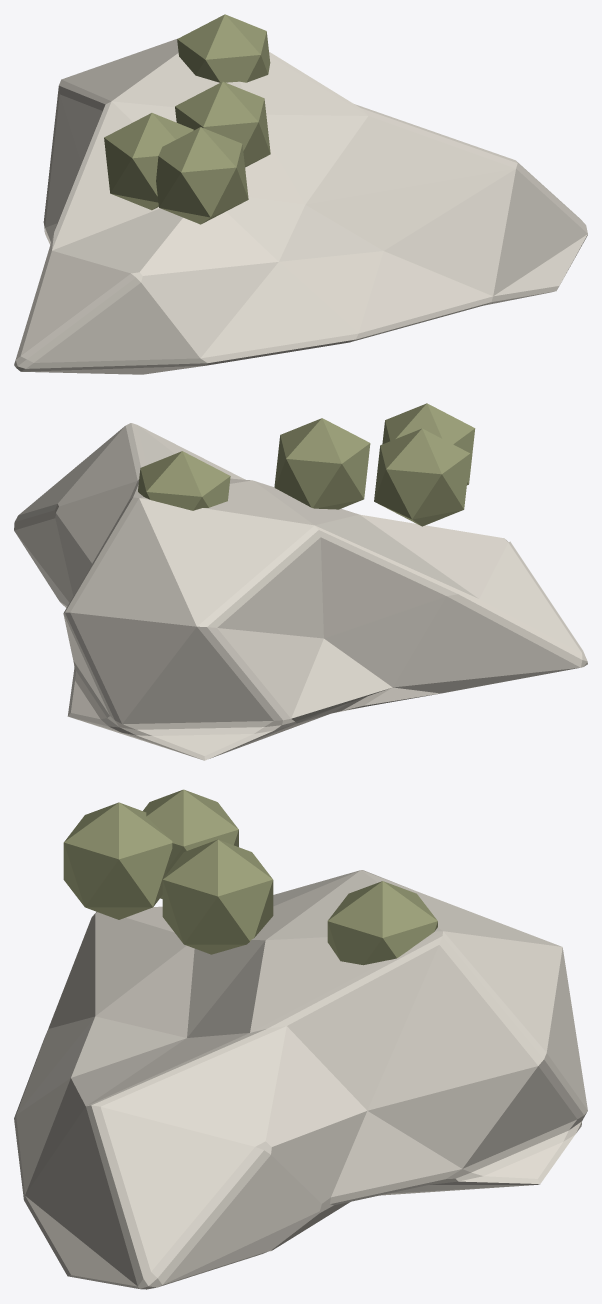
Rendered from RockB.fbx.
The picture shows the model from 3 angles, top to bottom: view 1: azimuth 30°, elevation 25°; view 2: azimuth 150°, elevation 25°; view 3: azimuth 270°, elevation 25°; orthographic projection. The views are drawn at different scales.
Visible parts, largest first — view 1: RockB; view 2: RockB; view 3: RockB.
Part boxes in pixels (box(x1,y1,x2,y2)): RockB: box(14, 14, 587, 374); RockB: box(14, 403, 587, 760); RockB: box(14, 789, 587, 1289).
Size of the model in its own units: 0.9759 by 0.3788 by 0.7073.
